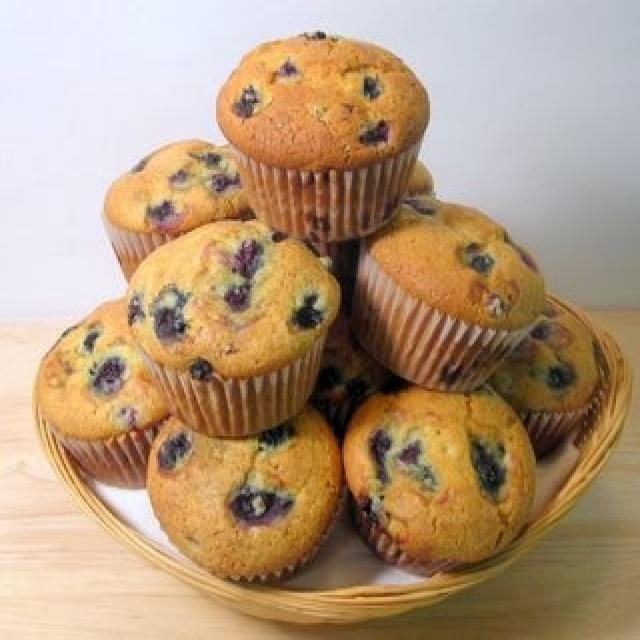炸货点心: (24, 17, 610, 599)
面包点心: (24, 17, 610, 599)
